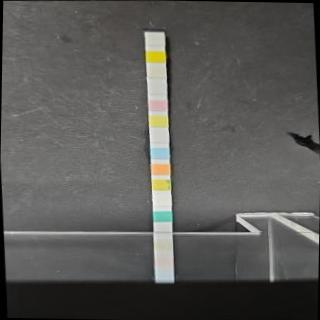mark: (146, 50, 166, 64), (148, 98, 168, 110), (150, 146, 168, 159), (151, 178, 170, 190), (147, 67, 166, 79), (152, 162, 169, 175), (152, 194, 170, 206), (150, 130, 168, 142), (149, 114, 167, 126), (148, 82, 166, 94), (146, 34, 163, 46), (154, 210, 170, 222)
